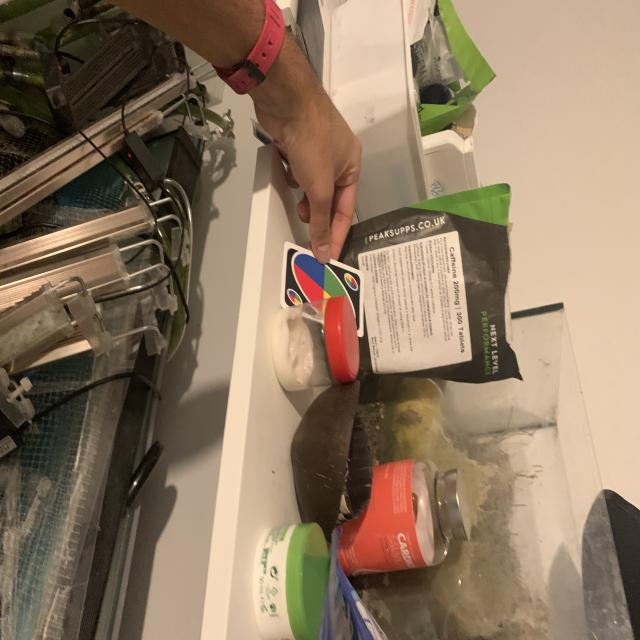lcolor-40: (341, 270, 360, 292)
